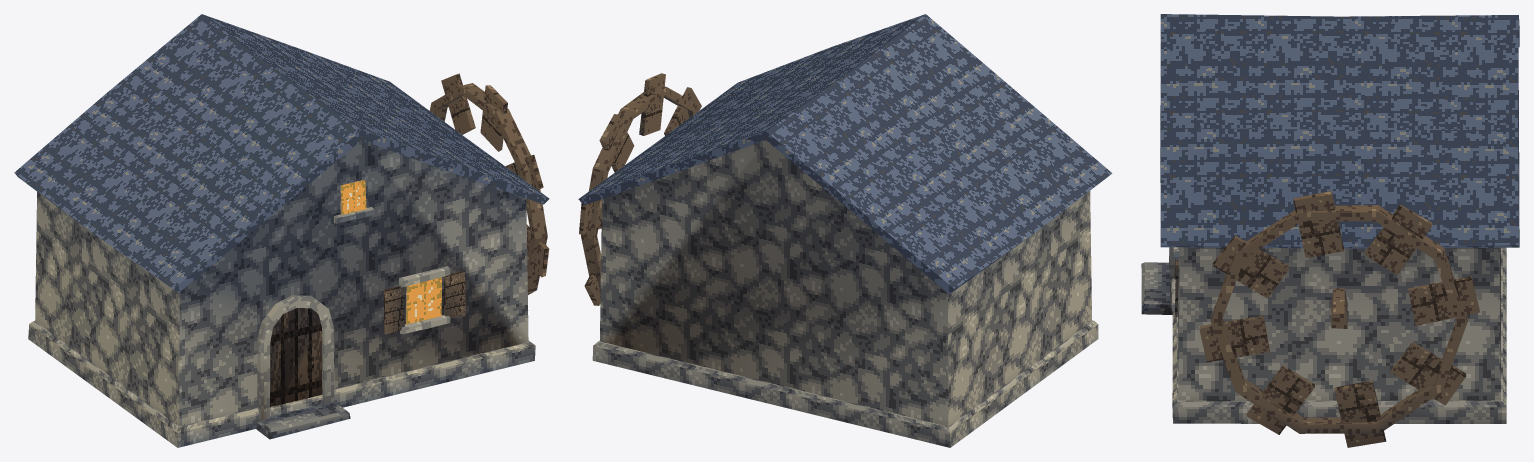
The model's file is vlg.mill__watermill.glb.
3 renders of one model, left to right at view 1: azimuth 30°, elevation 25°; view 2: azimuth 150°, elevation 25°; view 3: azimuth 270°, elevation 25°, orthographic. The views are drawn at different scales.
Visible parts, largest first — view 1: kit_walls, kit_roof, kit_fittings, kit_stonework, kit_frame; view 2: kit_walls, kit_roof, kit_stonework, kit_fittings, kit_frame; view 3: kit_roof, kit_walls, kit_fittings, kit_frame, kit_stonework.
Boxes of the visible parts, x1,y1,x2,y2 form: kit_walls: (35,140,528,426); kit_roof: (14,14,549,292); kit_fittings: (255,73,549,439); kit_stonework: (28,321,535,447); kit_frame: (429,83,547,294); kit_walls: (600,140,1091,426); kit_roof: (578,14,1112,294); kit_stonework: (592,320,1098,447); kit_fittings: (579,73,701,305); kit_frame: (581,86,697,290); kit_roof: (1160,14,1519,248); kit_walls: (1178,247,1500,401); kit_fittings: (1141,191,1480,447); kit_frame: (1211,205,1467,433); kit_stonework: (1172,247,1506,423).
Bounding box in the file's own units: 8.17 × 5.5 × 5.85.
8 materials, 8 textured.
